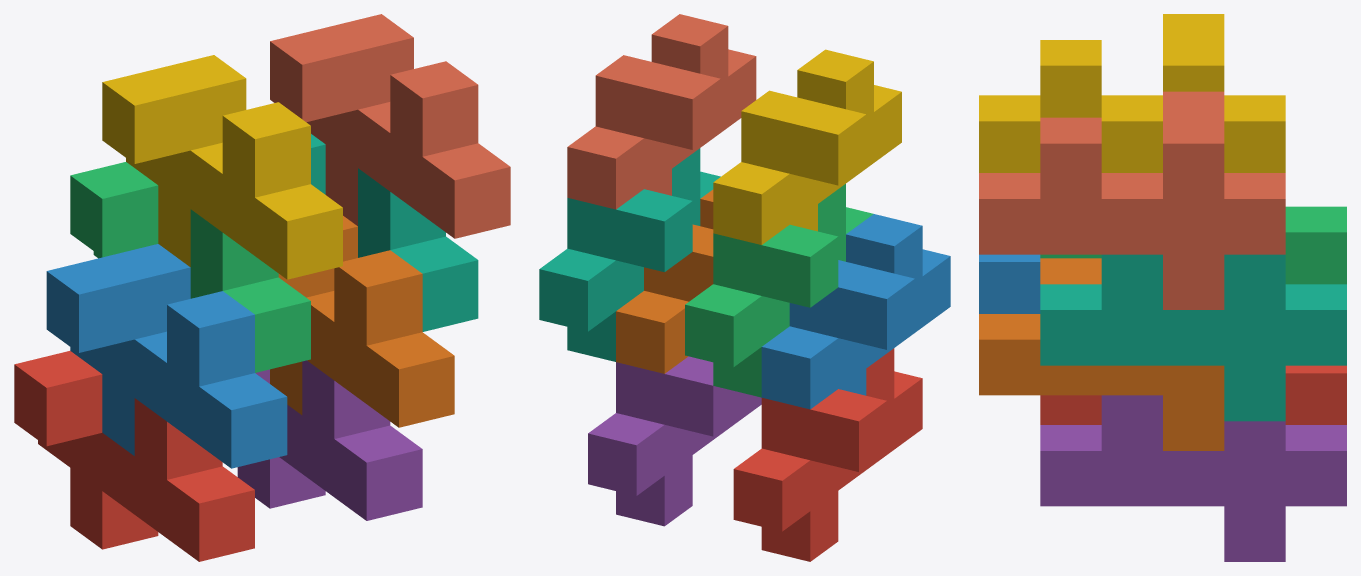
The model's file is tiling.obj.
The picture shows the model from 3 angles, left to right: view 1: azimuth 30°, elevation 25°; view 2: azimuth 150°, elevation 25°; view 3: azimuth 270°, elevation 25°; orthographic projection. The views are drawn at different scales.
Visible parts, largest first — view 1: copy_1_domain_2, copy_1_domain_4, copy_1_domain_8, copy_1_domain_1, copy_1_domain_6, copy_1_domain_3, copy_1_domain_5, copy_1_domain_7; view 2: copy_1_domain_4, copy_1_domain_8, copy_1_domain_1, copy_1_domain_2, copy_1_domain_3, copy_1_domain_7, copy_1_domain_5, copy_1_domain_6; view 3: copy_1_domain_8, copy_1_domain_7, copy_1_domain_5, copy_1_domain_4, copy_1_domain_6, copy_1_domain_1, copy_1_domain_3, copy_1_domain_2.
Boxes of the visible parts, x1,y1,x2,y2 form: copy_1_domain_2: (46, 244, 287, 468); copy_1_domain_4: (102, 55, 342, 279); copy_1_domain_8: (270, 14, 510, 238); copy_1_domain_1: (14, 351, 254, 561); copy_1_domain_6: (270, 216, 454, 427); copy_1_domain_3: (70, 162, 310, 372); copy_1_domain_5: (237, 360, 422, 520); copy_1_domain_7: (311, 134, 478, 331); copy_1_domain_4: (713, 49, 901, 244); copy_1_domain_8: (567, 14, 756, 209); copy_1_domain_1: (733, 348, 922, 561); copy_1_domain_2: (761, 214, 950, 409); copy_1_domain_3: (685, 184, 873, 397); copy_1_domain_7: (539, 148, 720, 361); copy_1_domain_5: (588, 356, 761, 526); copy_1_domain_6: (616, 189, 713, 373); copy_1_domain_8: (979, 91, 1285, 309); copy_1_domain_7: (1040, 254, 1346, 421); copy_1_domain_5: (1040, 395, 1346, 561); copy_1_domain_4: (979, 14, 1285, 172); copy_1_domain_6: (979, 258, 1224, 450); copy_1_domain_1: (1040, 365, 1346, 424); copy_1_domain_3: (1040, 206, 1346, 284); copy_1_domain_2: (979, 254, 1040, 313).
Size of the model in its own units: 6 by 8 by 6.
